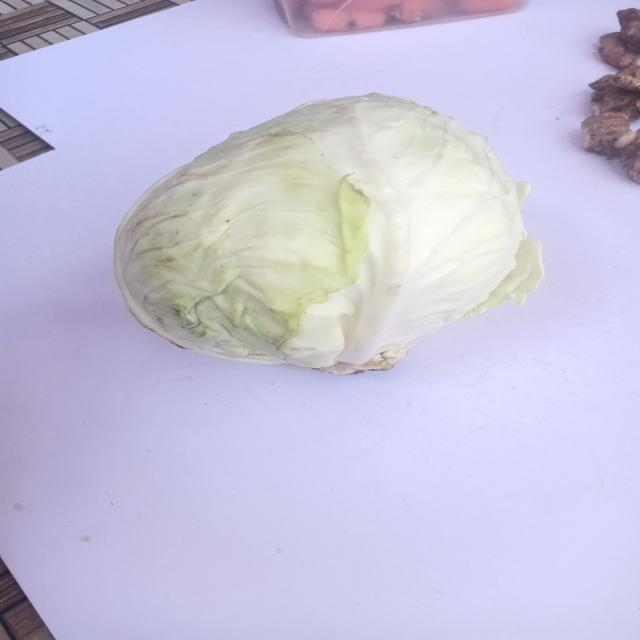Cabbage: (111, 82, 556, 402)
